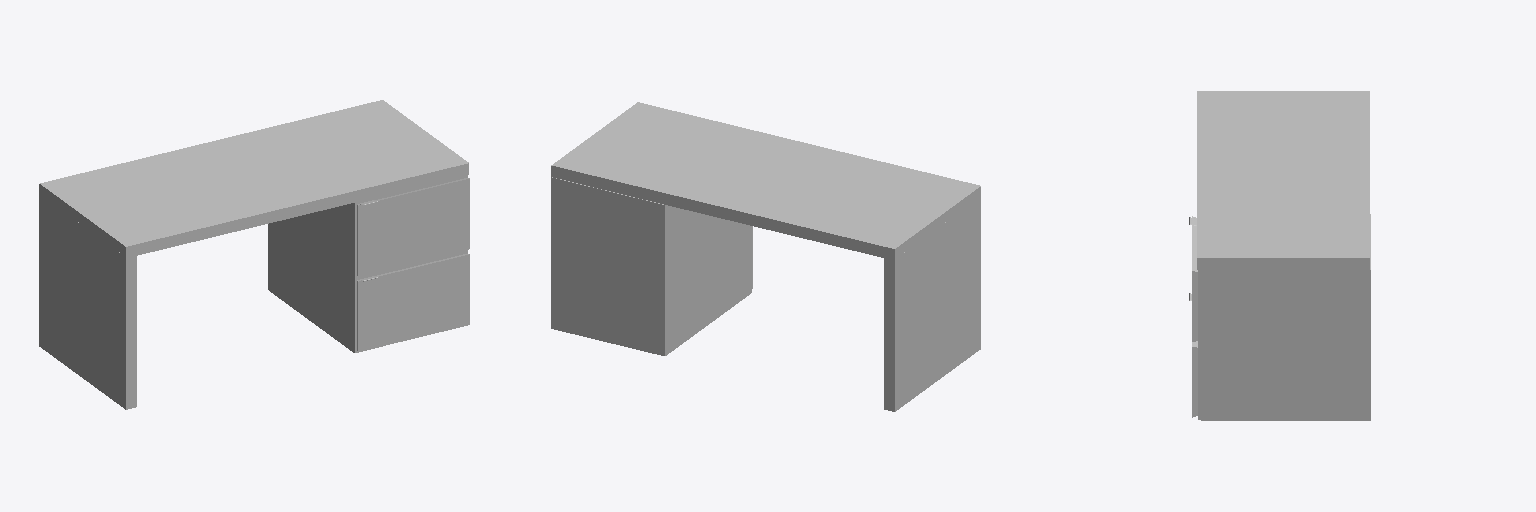
File: floor_2.obj
3 renders of one model, left to right at view 1: azimuth 30°, elevation 25°; view 2: azimuth 150°, elevation 25°; view 3: azimuth 270°, elevation 25°, orthographic.
Bounding box in the file's own units: 90.62 × 41.1 × 41.39.